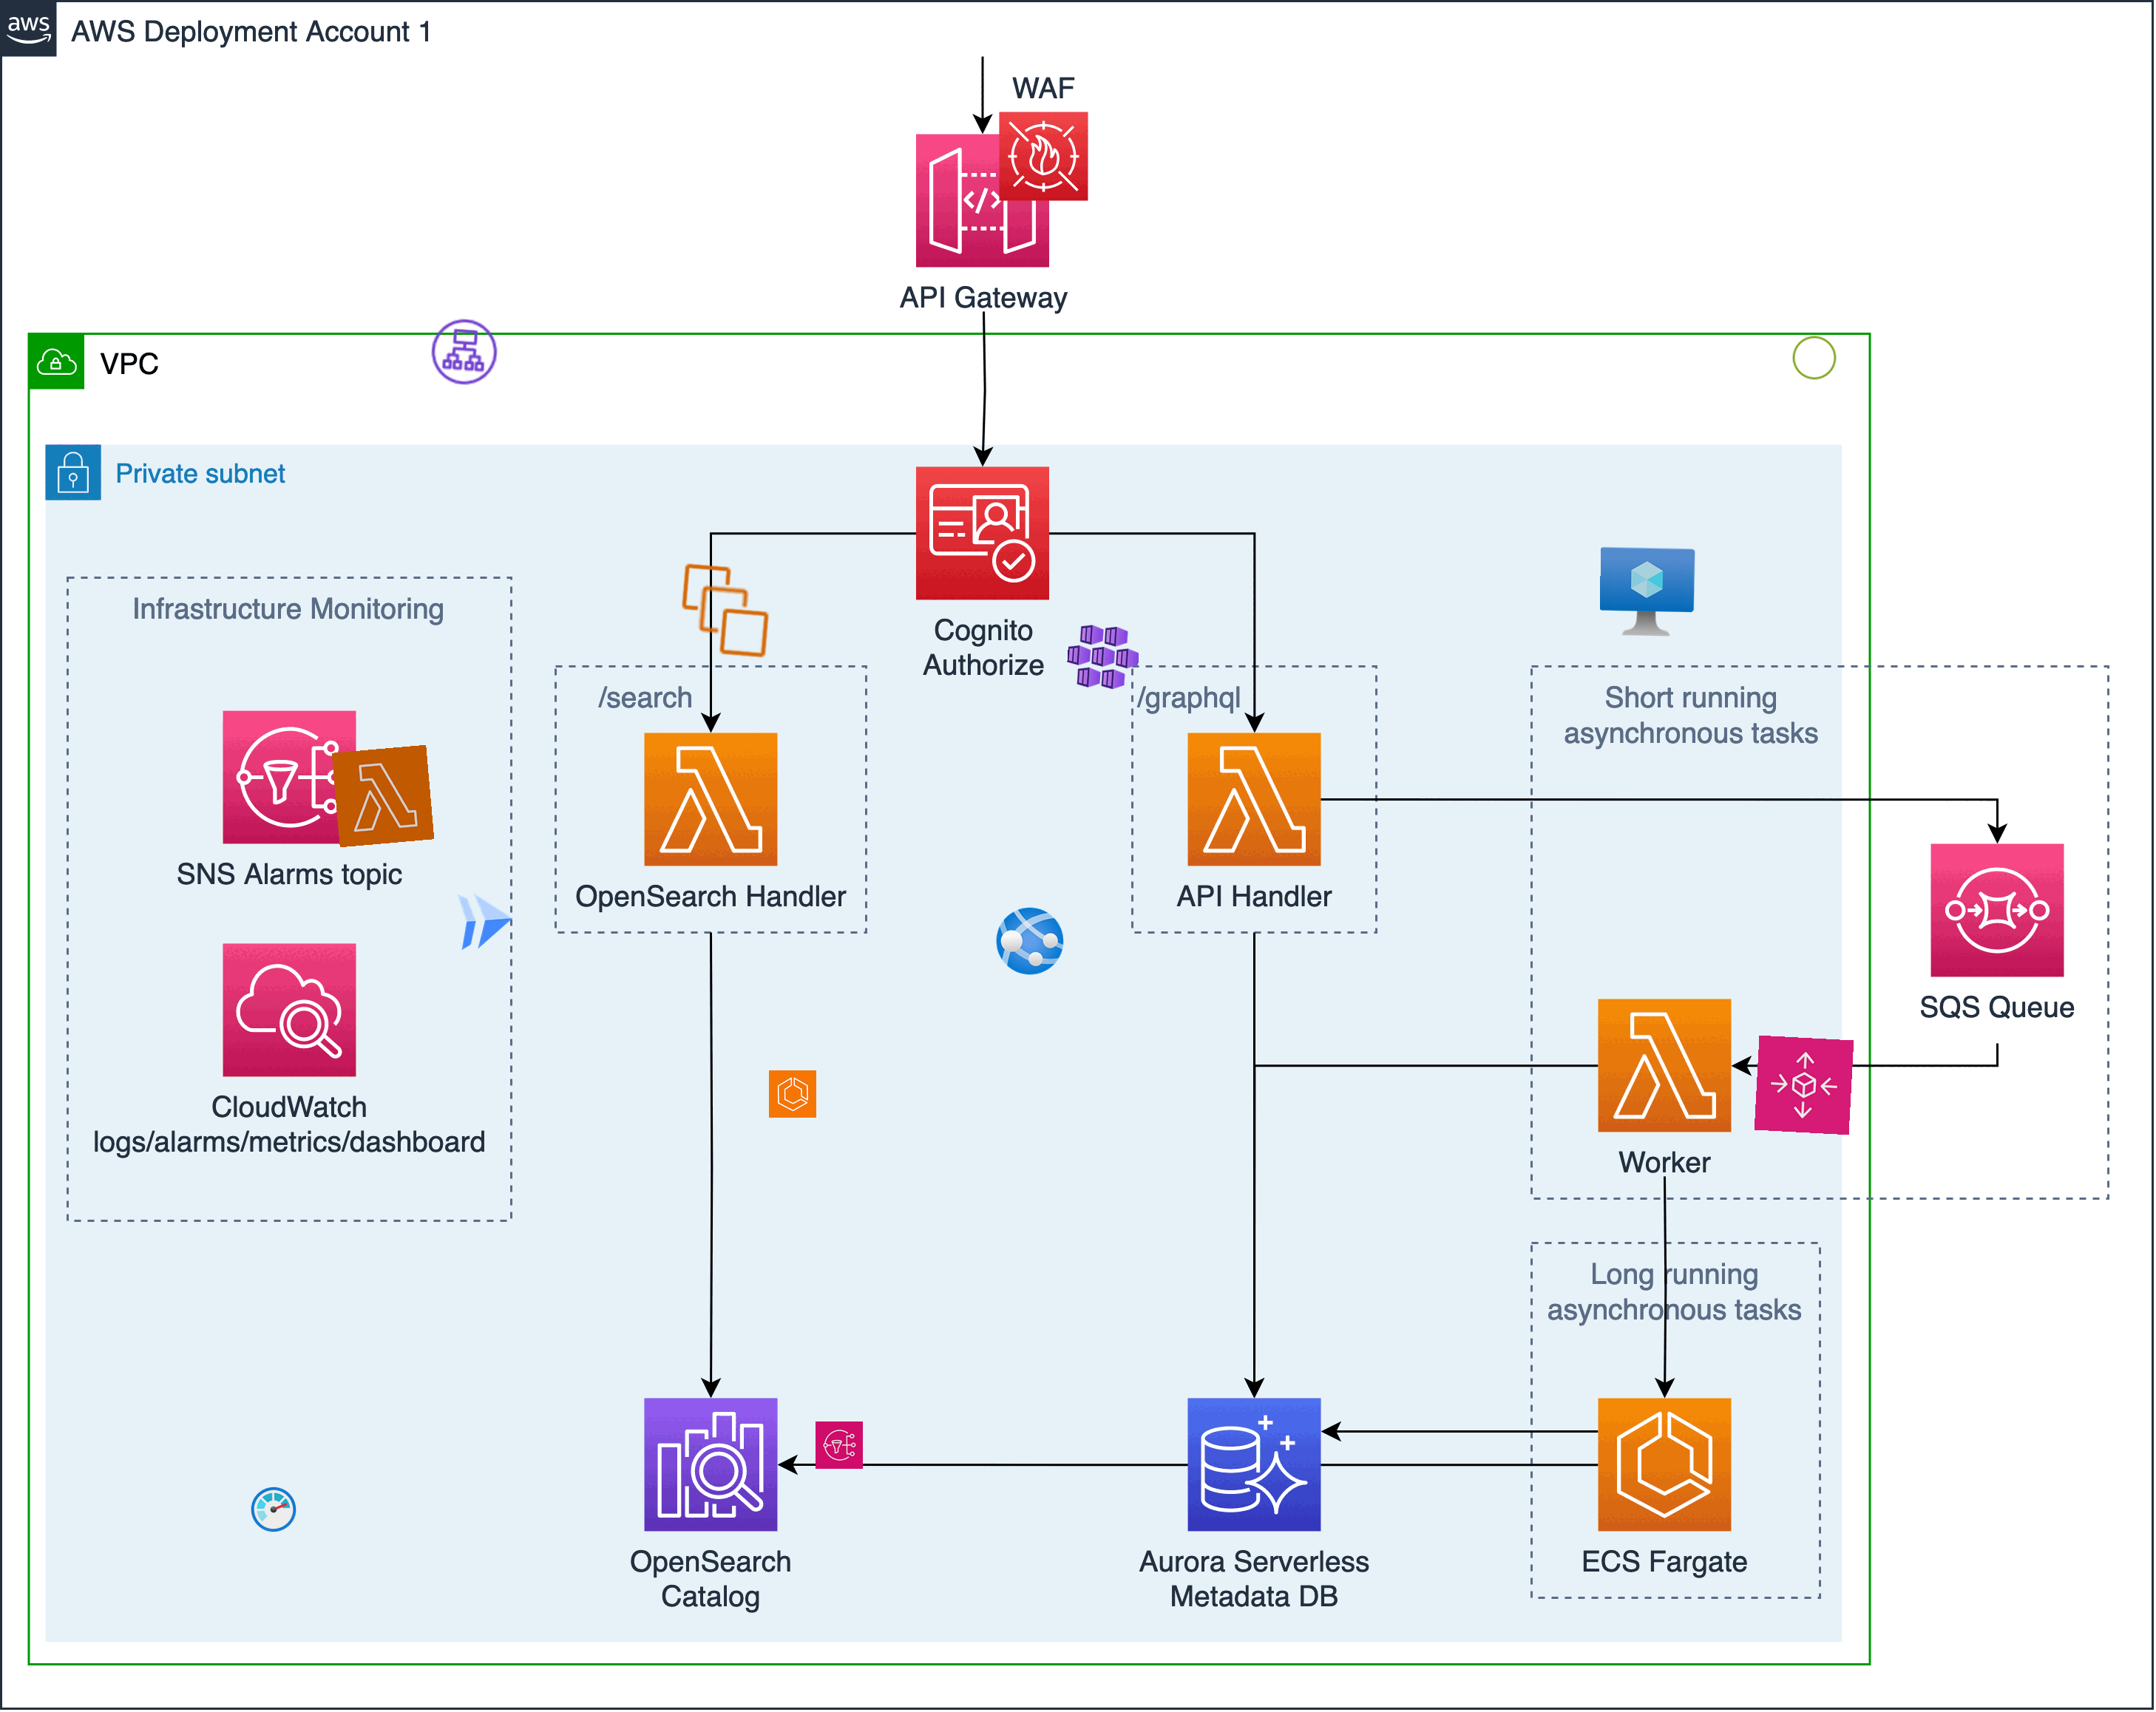aws_amazon_elastic_container_service: (768, 1070, 817, 1119)
aws_amazon_simple_notification_service: (815, 1420, 863, 1469)
aws_auto_scaling: (1754, 1035, 1855, 1135)
aws_ec2_instances: (674, 560, 777, 663)
aws_elastic_load_balancing_application_load_balancer: (425, 313, 502, 390)
aws_lambda: (331, 745, 434, 848)
aws_simple_storage_service_object: (1790, 334, 1839, 383)
azure_app_services: (992, 902, 1069, 979)
azure_kubernetes_services: (1064, 617, 1141, 694)
azure_monitor: (248, 1485, 298, 1534)
azure_virtual_machine: (1598, 546, 1696, 644)
gcp_cloud_run: (446, 881, 523, 958)
